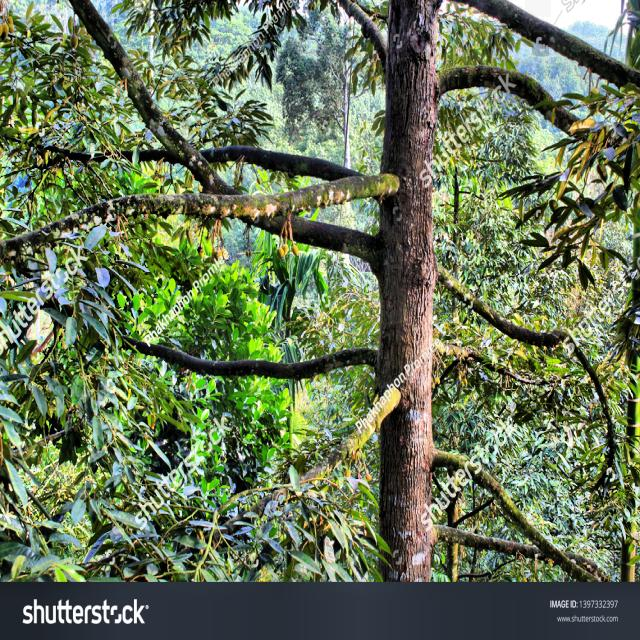arvore: (364, 0, 447, 582)
